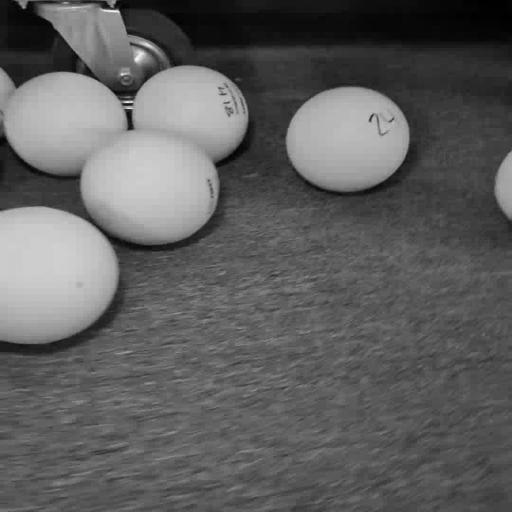fuel: (0, 207, 119, 344), (80, 129, 219, 245), (286, 87, 410, 192), (4, 72, 127, 176), (132, 66, 249, 163), (495, 152, 511, 220)
